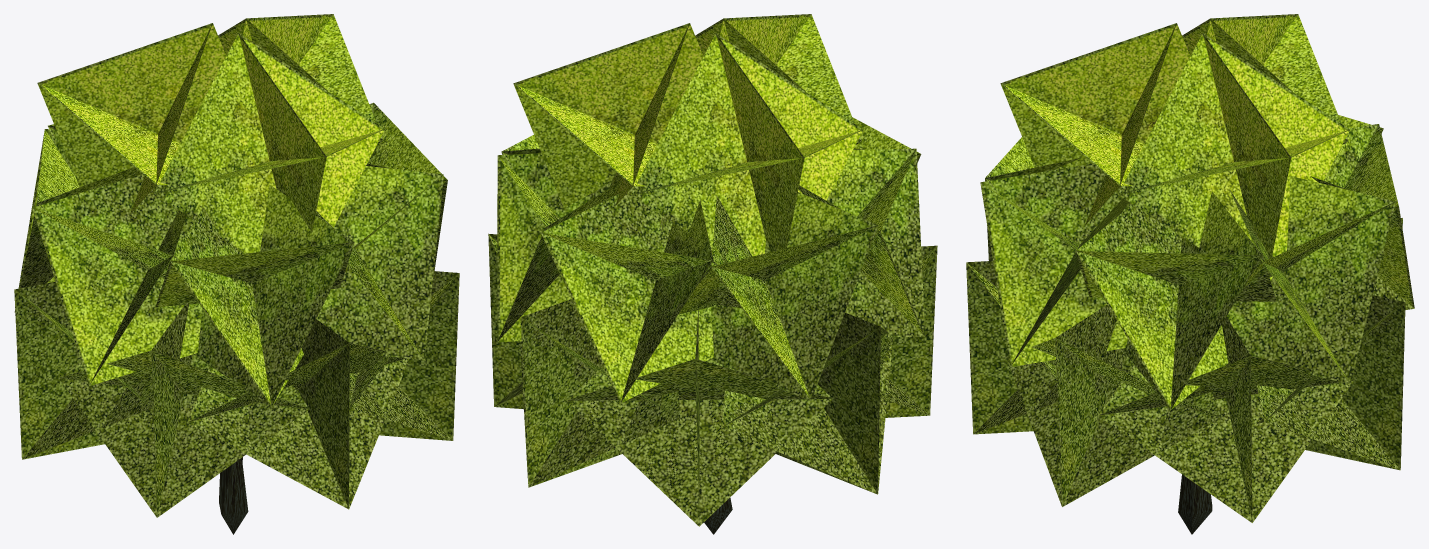
The model's file is wilg_2.fbx.
3 views of the same model, side by side, from view 1: azimuth 30°, elevation 25°; view 2: azimuth 150°, elevation 25°; view 3: azimuth 270°, elevation 25° (orthographic).
Parts seen in each view (by area): view 1: wilg_2; view 2: wilg_2; view 3: wilg_2.
Part boxes in pixels (left/top/right/bottom): wilg_2: left=14, top=14, right=459, bottom=534; wilg_2: left=488, top=14, right=937, bottom=534; wilg_2: left=966, top=14, right=1414, bottom=534.
Size of the model in its own units: 856 by 1074 by 855.
